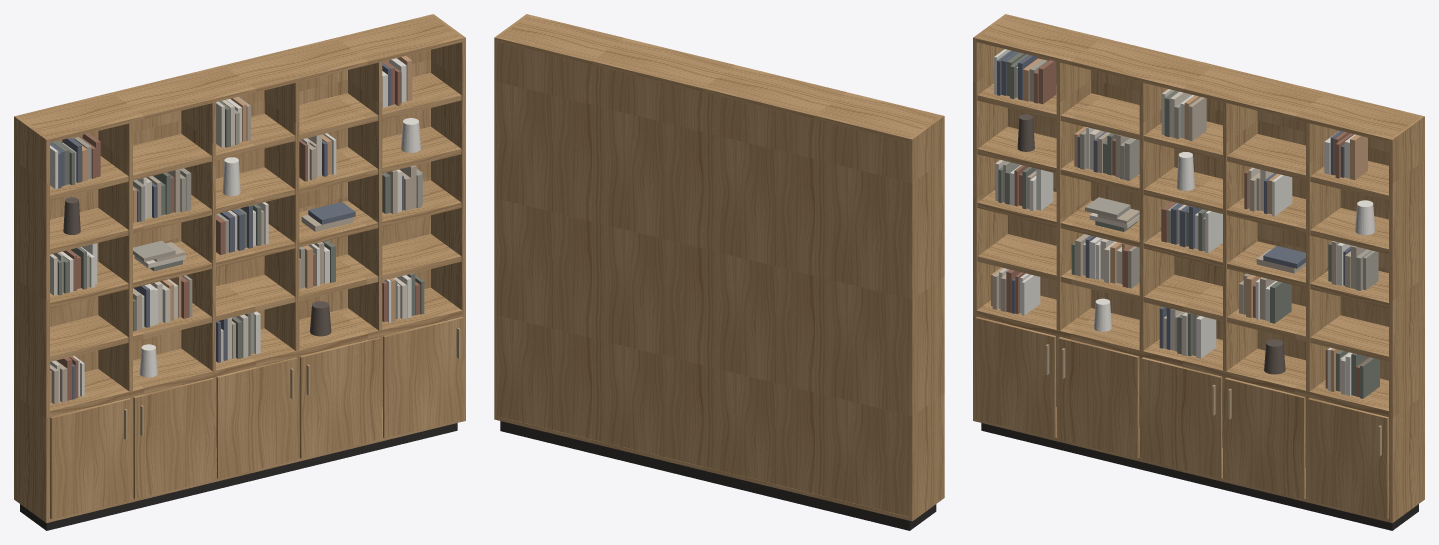
Rendered from libreria.glb.
3 renders of one model, left to right at view 1: azimuth 30°, elevation 25°; view 2: azimuth 150°, elevation 25°; view 3: azimuth 330°, elevation 25°, orthographic.
Visible parts, largest first — view 1: finitura, schienale, libro4, libro1, libro0, libro5, libro2, zoccolo, libro3, libro7, libro6, ceramica (+2 smaller); view 2: schienale, finitura, zoccolo; view 3: finitura, schienale, libro4, libro1, libro0, libro7, libro5, libro2, zoccolo, libro3, libro6, ceramica (+2 smaller).
Part boxes in pixels (x1=…): finitura: x1=14, y1=14, x2=465, y2=523; schienale: x1=50, y1=50, x2=430, y2=467; libro4: x1=50, y1=58, x2=411, y2=396; libro1: x1=52, y1=101, x2=424, y2=358; libro0: x1=50, y1=97, x2=416, y2=404; libro5: x1=50, y1=62, x2=403, y2=399; libro2: x1=50, y1=100, x2=406, y2=401; zoccolo: x1=20, y1=423, x2=457, y2=530; libro3: x1=56, y1=61, x2=420, y2=400; libro7: x1=53, y1=110, x2=422, y2=353; libro6: x1=50, y1=56, x2=412, y2=402; ceramica: x1=139, y1=118, x2=420, y2=377; schienale: x1=498, y1=42, x2=908, y2=516; finitura: x1=494, y1=14, x2=944, y2=521; zoccolo: x1=500, y1=421, x2=936, y2=530; finitura: x1=973, y1=14, x2=1424, y2=523; schienale: x1=1008, y1=54, x2=1388, y2=467; libro4: x1=994, y1=49, x2=1355, y2=395; libro1: x1=998, y1=52, x2=1379, y2=398; libro0: x1=992, y1=97, x2=1366, y2=351; libro7: x1=1003, y1=59, x2=1378, y2=355; libro5: x1=997, y1=50, x2=1350, y2=349; libro2: x1=995, y1=67, x2=1349, y2=394; zoccolo: x1=981, y1=423, x2=1418, y2=530; libro3: x1=1006, y1=60, x2=1370, y2=397; libro6: x1=991, y1=58, x2=1367, y2=391; ceramica: x1=1094, y1=152, x2=1375, y2=331.
Bounding box in the file's own units: 3 × 2.7 × 0.445.
15 materials, 2 textured.
